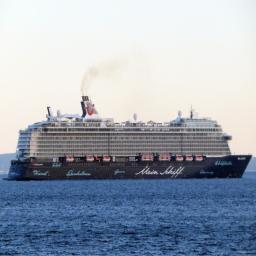cruises: (2, 94, 254, 183)
